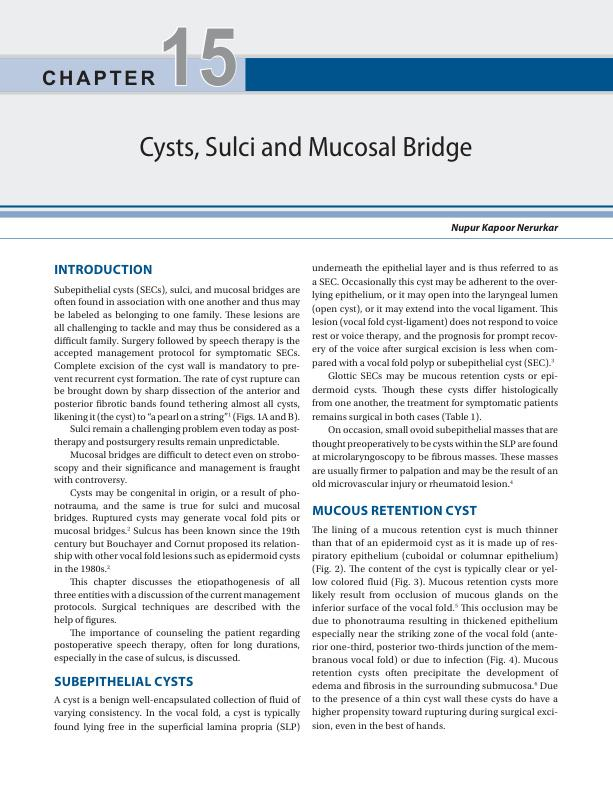chapter-heading: (138, 134, 474, 165)
section-heading: (312, 504, 478, 516), (54, 676, 194, 687), (54, 264, 153, 275)
text: (53, 284, 301, 665), (311, 262, 559, 490), (311, 524, 560, 732), (52, 695, 301, 734)
